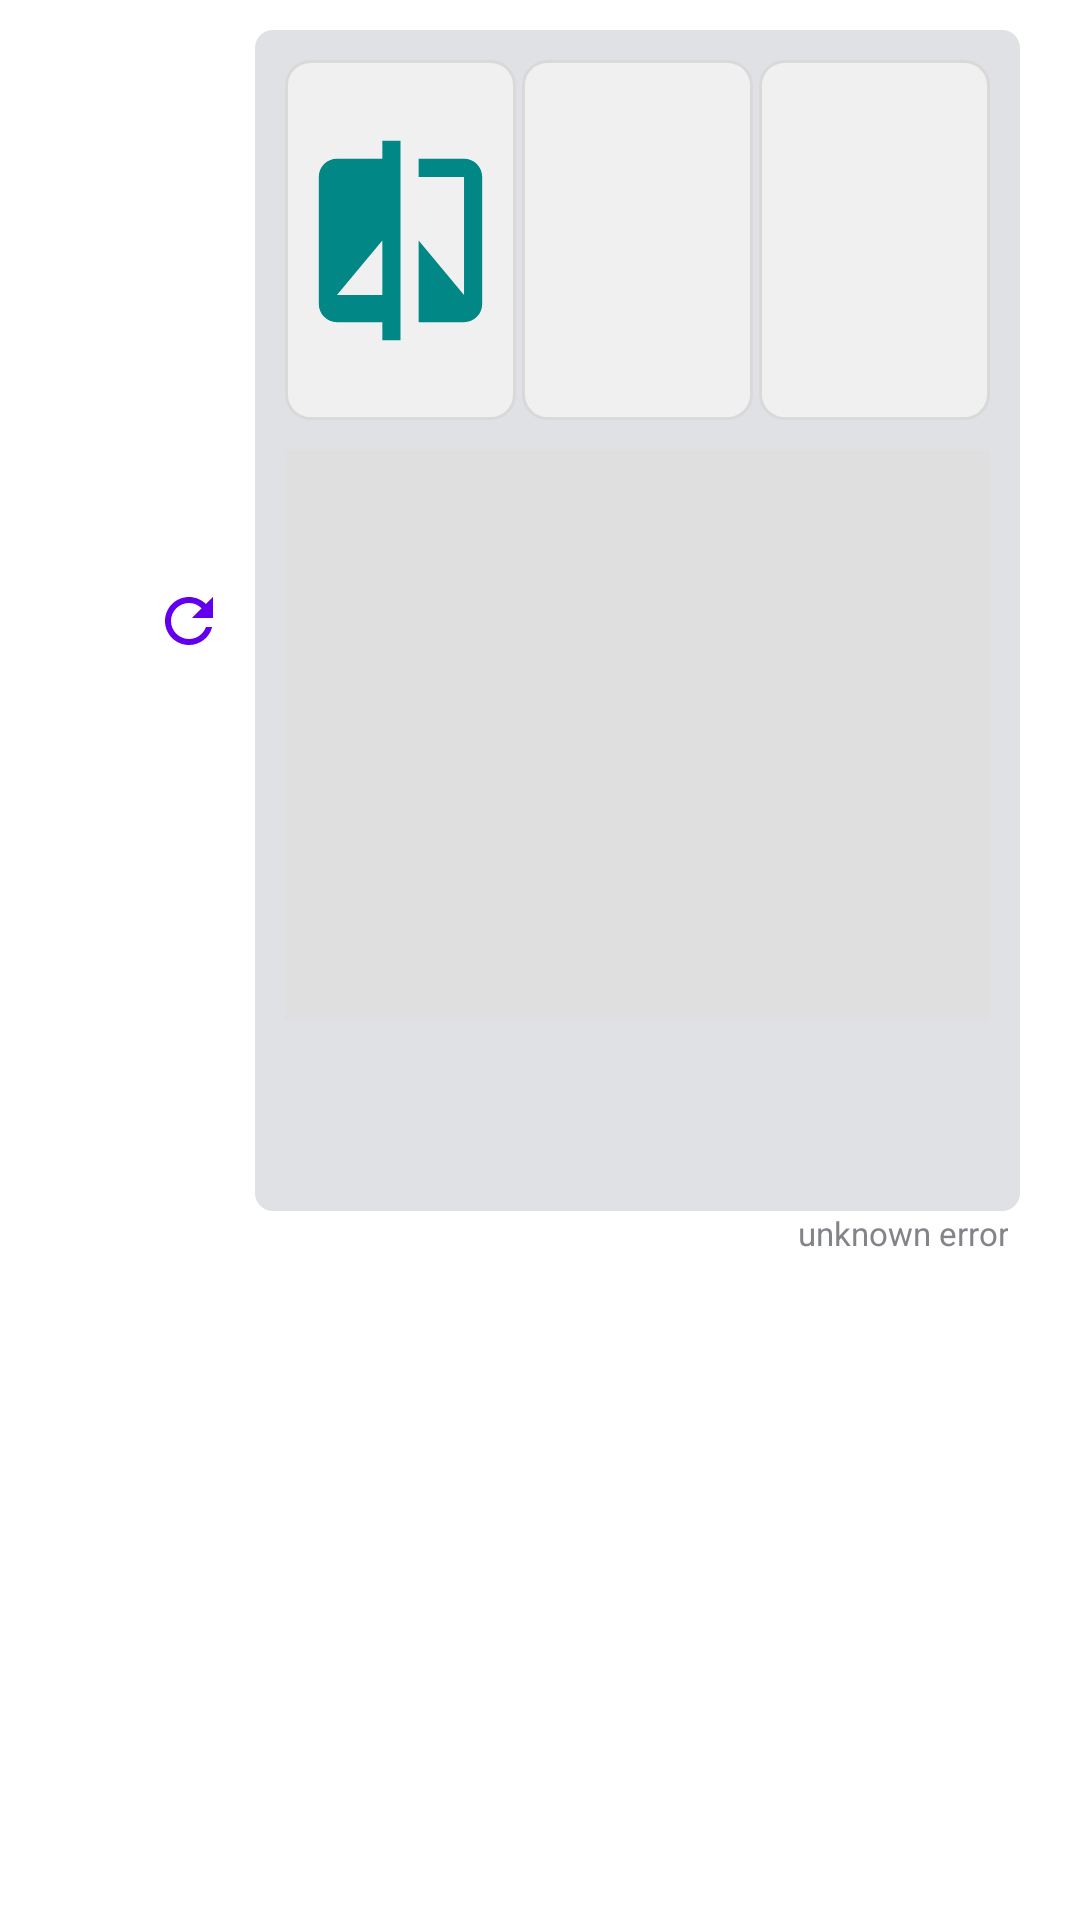

Where icons sit on this 1080px×1920px app screen, as [left=x1, top=y1, right=x2, bottom=y2]:
compare: [left=318, top=140, right=483, bottom=341]
resent: [left=165, top=597, right=213, bottom=645]
